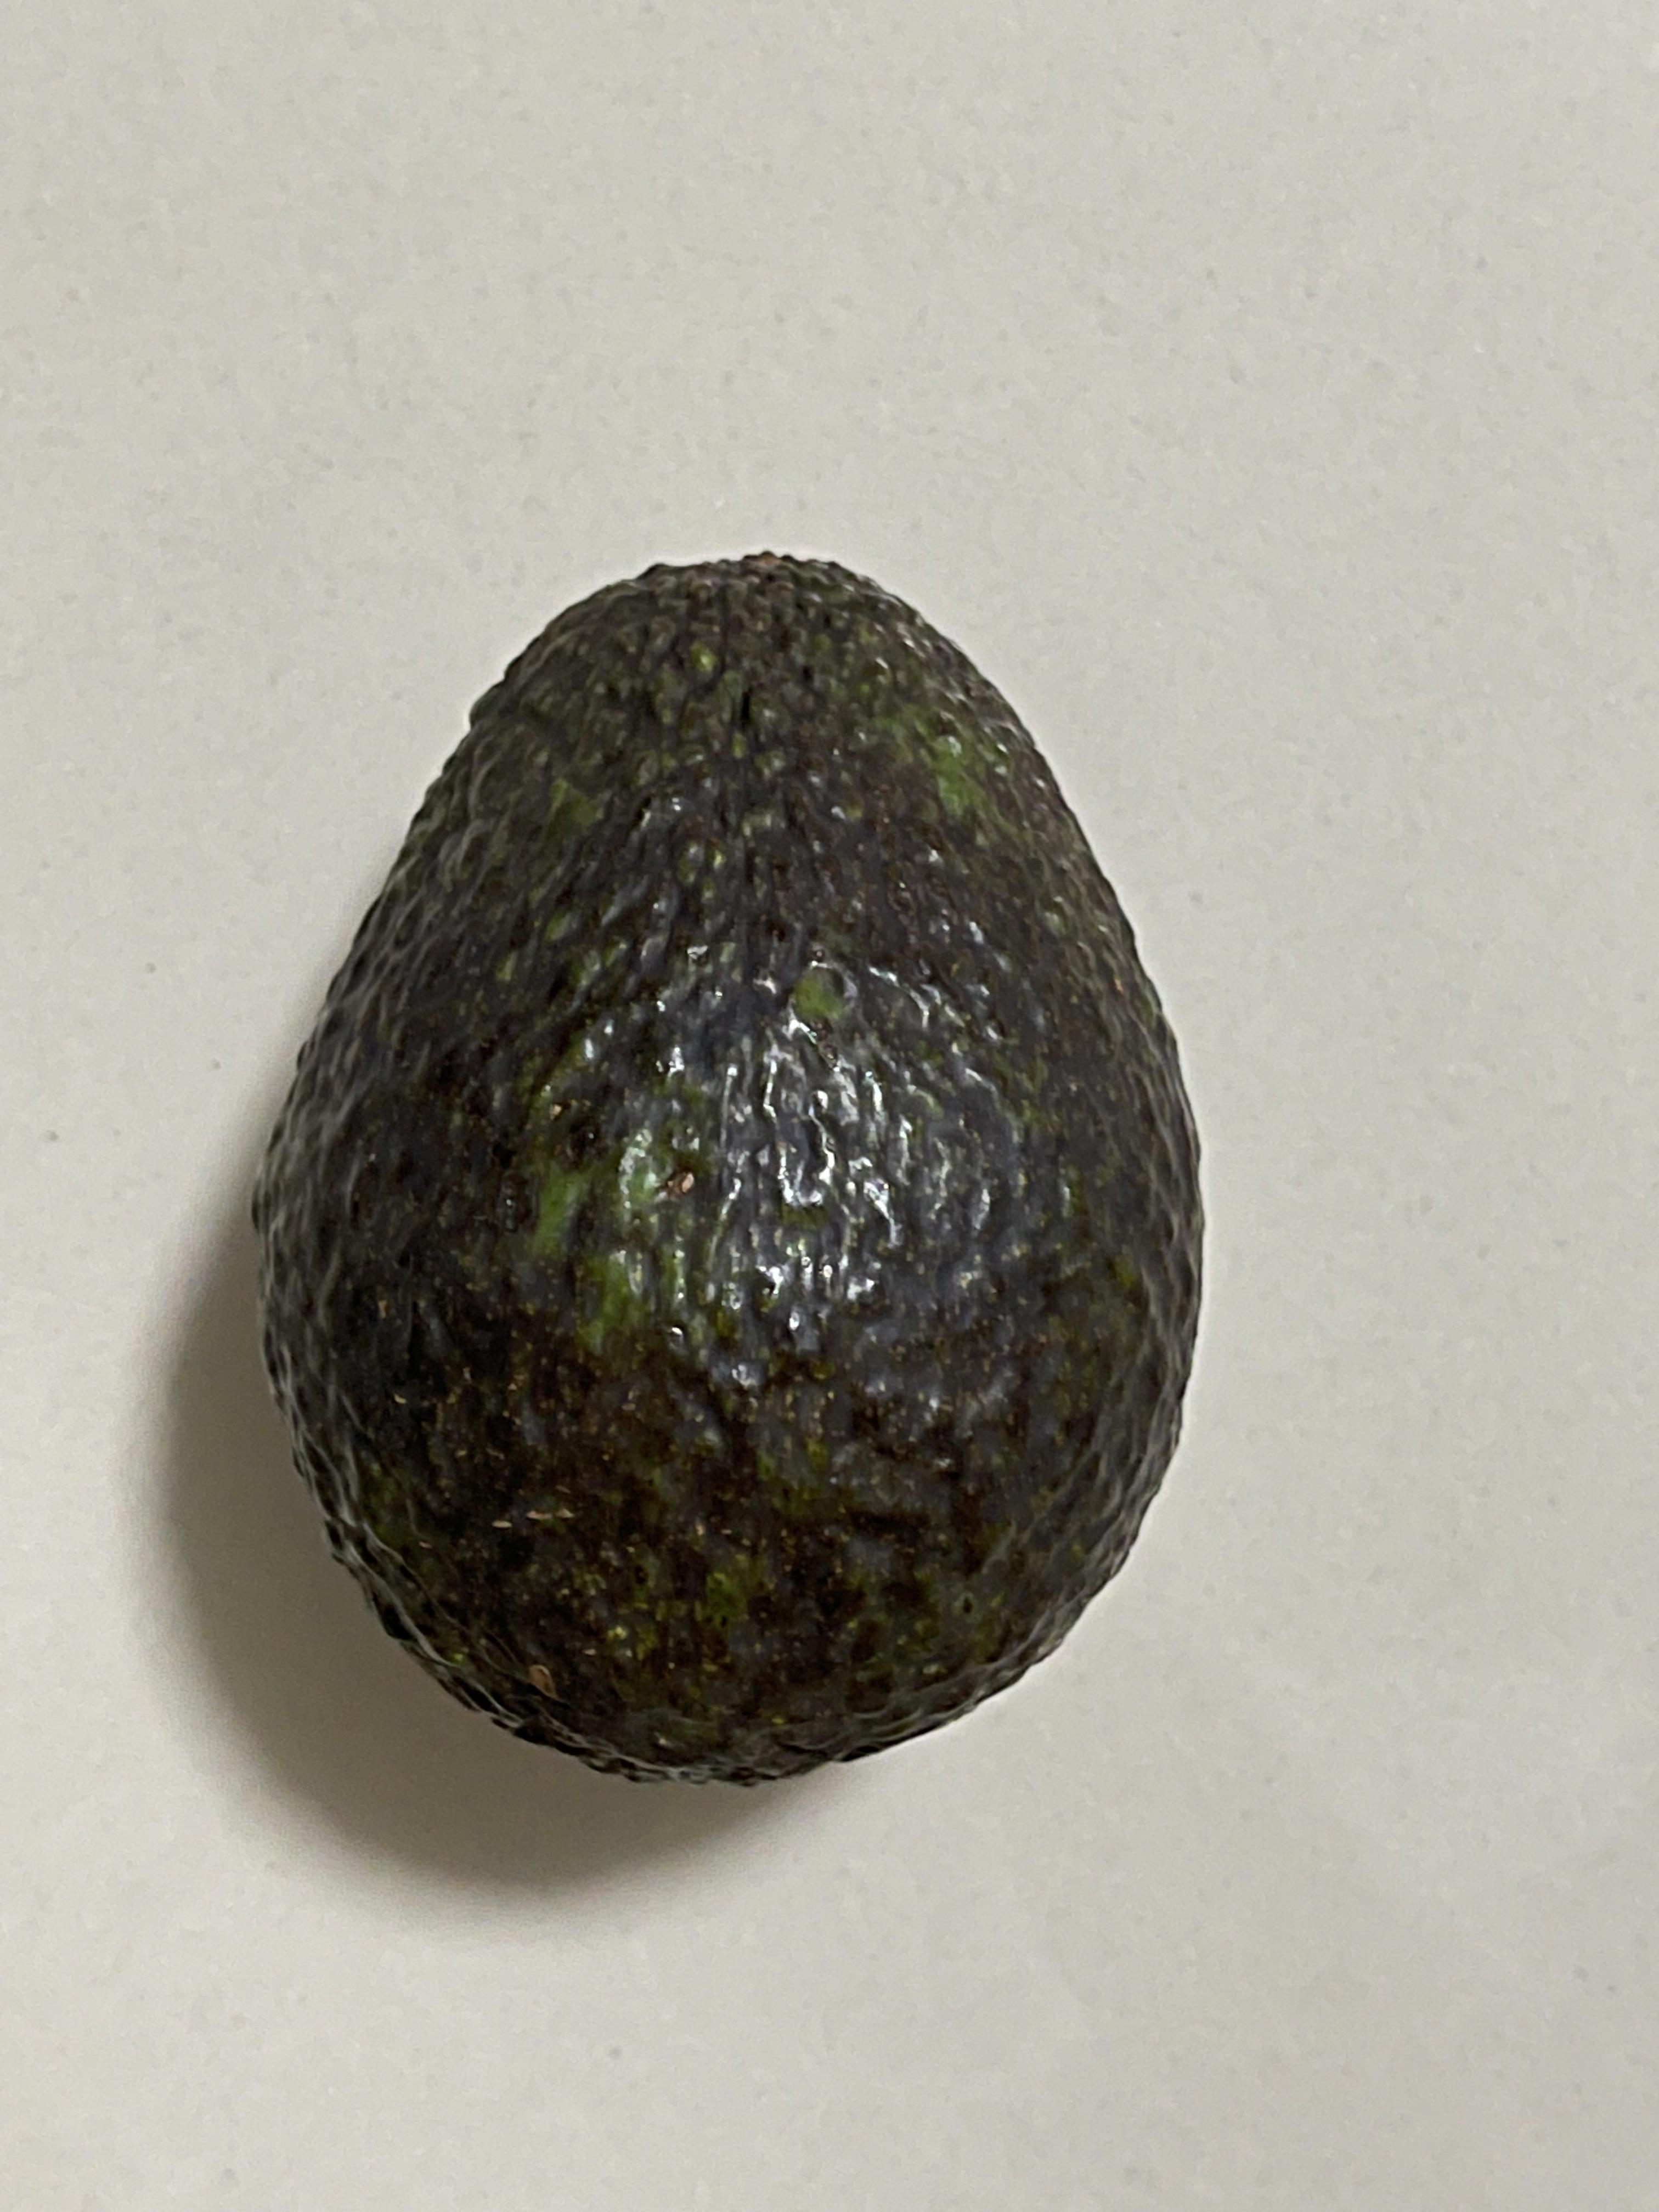Level1: (225, 500, 1241, 1804)
